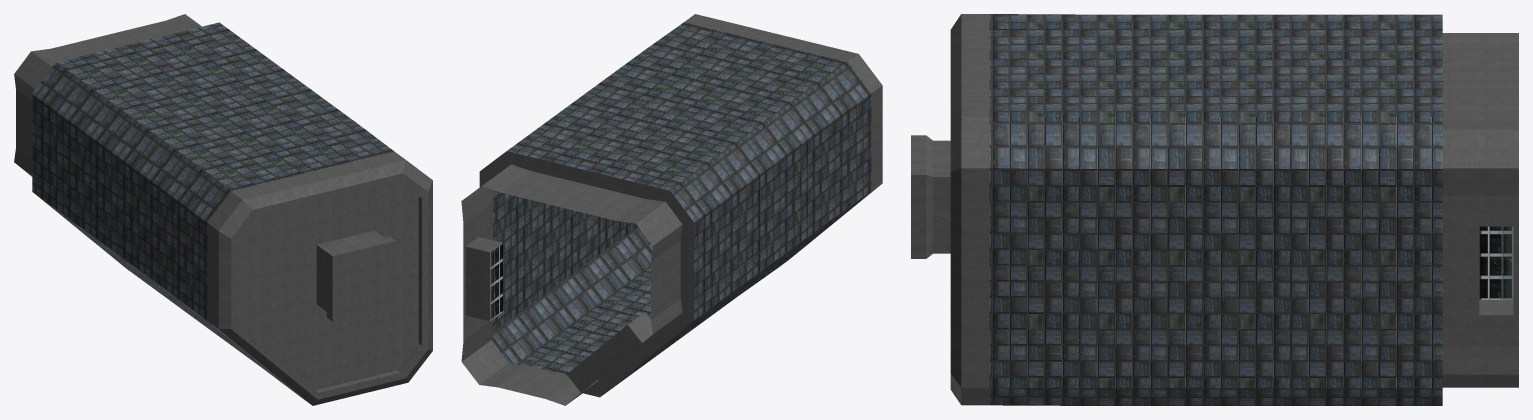
The model's file is skyscraper_windowB_03.obj.
3 renders of one model, left to right at view 1: azimuth 30°, elevation 25°; view 2: azimuth 150°, elevation 25°; view 3: azimuth 270°, elevation 25°, orthographic. The views are drawn at different scales.
Parts seen in each view (by area): view 1: Object47; view 2: Object47; view 3: Object47.
Part boxes in pixels (<box>): Object47: <box>14,14,432,405</box>; Object47: <box>461,14,882,405</box>; Object47: <box>911,14,1518,405</box>.
Bounding box in the file's own units: 36.33 × 36.05 × 69.13.
3 materials, 3 textured.
